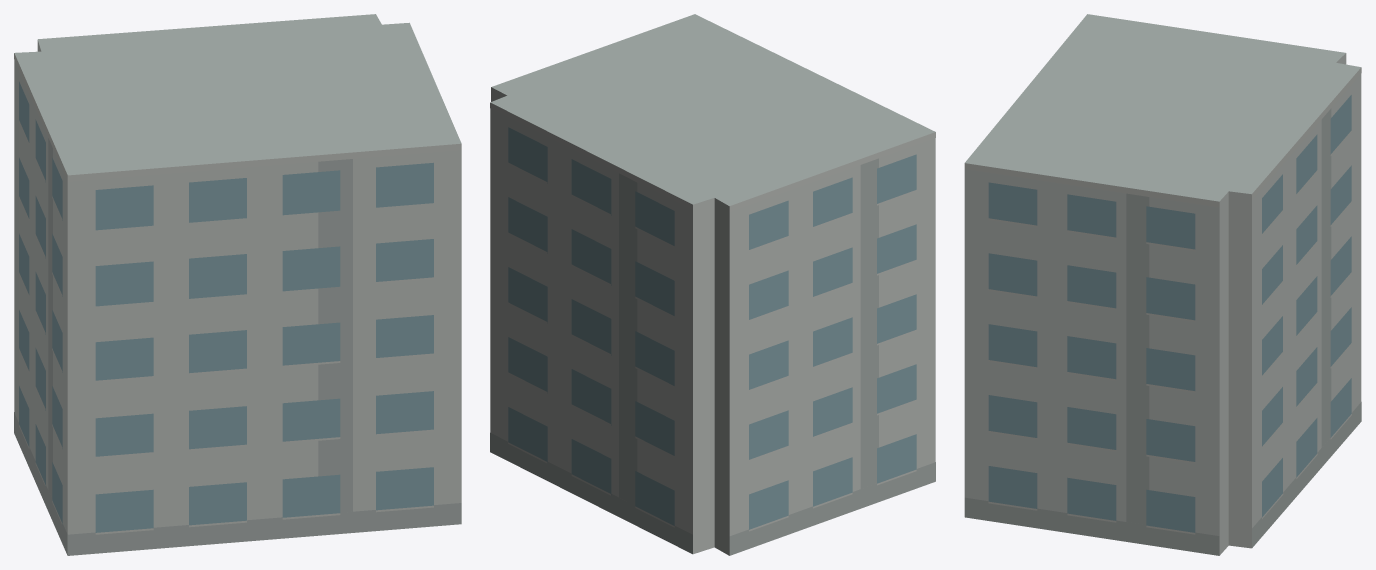
The model's file is survey-upis-32890867.glb.
3 views of the same model, side by side, from view 1: azimuth 30°, elevation 25°; view 2: azimuth 150°, elevation 25°; view 3: azimuth 270°, elevation 25° (orthographic). The views are drawn at different scales.
Parts seen in each view (by area): view 1: survey-upis-32890867.tmp; view 2: survey-upis-32890867.tmp; view 3: survey-upis-32890867.tmp.
Boxes of the visible parts, x1,y1,x2,y2 form: survey-upis-32890867.tmp: (14, 14, 461, 555); survey-upis-32890867.tmp: (490, 14, 935, 555); survey-upis-32890867.tmp: (964, 14, 1361, 555).
Bounding box in the file's own units: 16.25 × 14.3 × 14.53.
